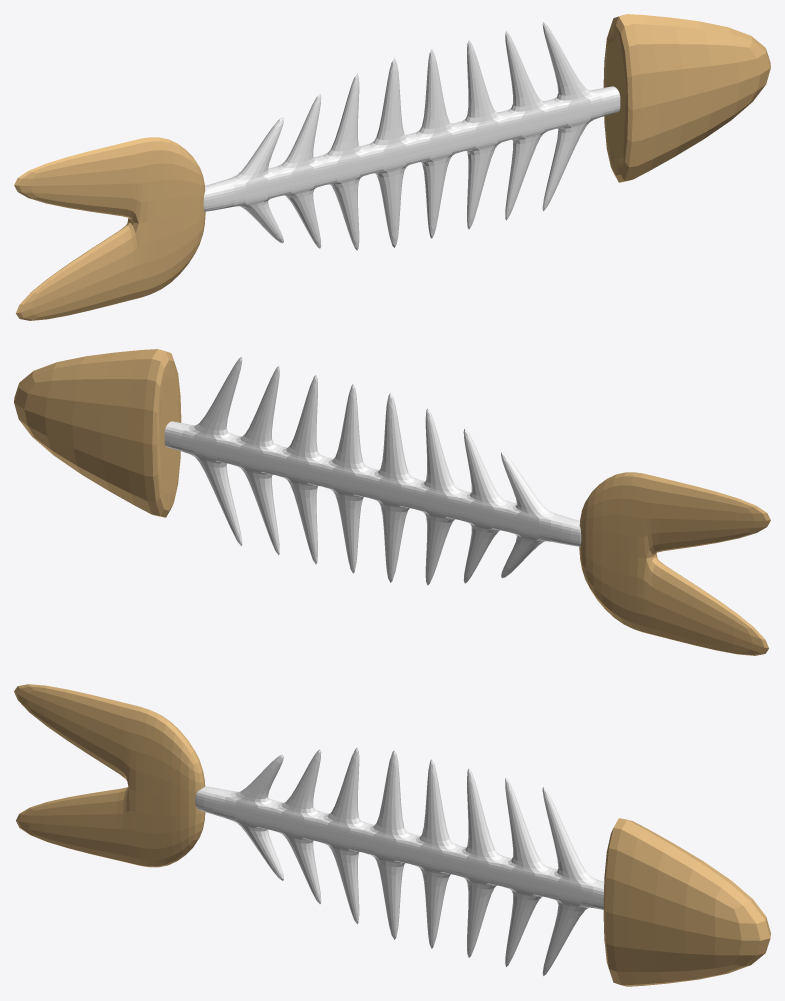
The model's file is FishBone.fbx.
The picture shows the model from 3 angles, top to bottom: view 1: azimuth 30°, elevation 25°; view 2: azimuth 150°, elevation 25°; view 3: azimuth 330°, elevation 25°; orthographic projection.
Visible parts, largest first — view 1: Cube; view 2: Cube; view 3: Cube.
Part boxes in pixels (x1,y1,x2,y2): Cube: (14,14,770,320); Cube: (14,349,770,655); Cube: (14,684,770,986).
Size of the model in its own units: 6455 by 1549 by 426.
